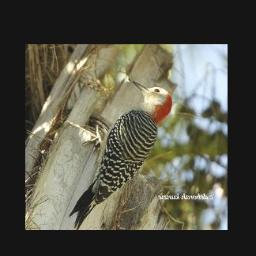Woodpecker: (68, 80, 176, 229)
